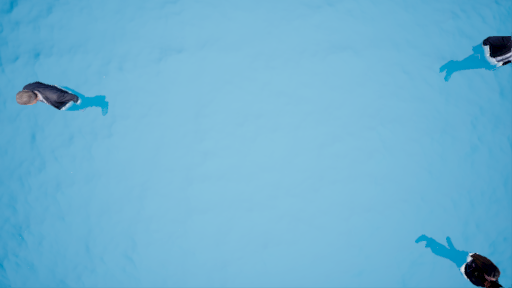person: (11, 71, 117, 125), (419, 231, 510, 288), (442, 22, 512, 85)
